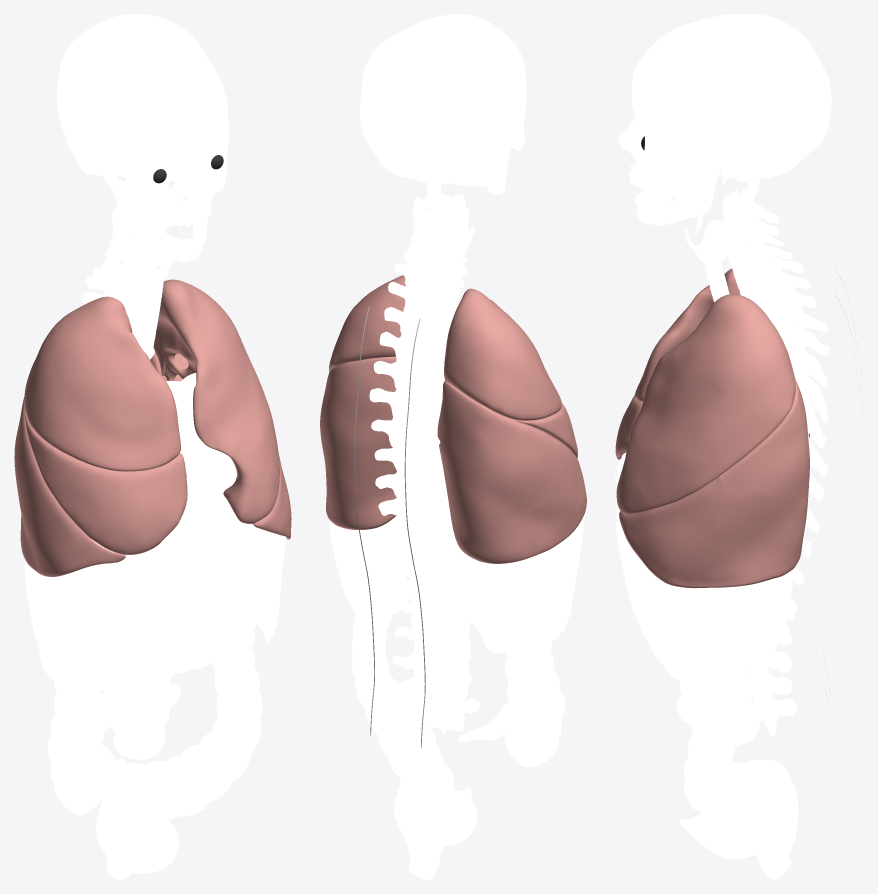
Rendered from organs_v1_backup_20260521.glb.
The picture shows the model from 3 angles, left to right: view 1: azimuth 30°, elevation 25°; view 2: azimuth 150°, elevation 25°; view 3: azimuth 270°, elevation 25°; orthographic projection. The views are drawn at different scales.
Visible parts, largest first — view 1: Superior lobe of right lung, Diaphragm, Superior lobe of left lung, Frontal bone, Middle lobe of right lung, Descending colon, Parietal bone.r, Inferior lobe of right lung, Liver, Ascending colon, Urinary bladder, Transverse colon (+21 smaller); view 2: Inferior lobe of right lung, Diaphragm, Parietal bone.r, Inferior lobe of left lung, Superior lobe of right lung, Descending colon, Ascending colon, Occipital bone, Sigmoid colon, Parietal bone.l, Superior lobe of left lung, Vertebra L5 (+30 smaller); view 3: Superior lobe of left lung, Inferior lobe of left lung, Parietal bone.l, Diaphragm, Descending colon, Frontal bone, Sigmoid colon, Mandible, Temporal bone.l, Urinary bladder, Superior lobe of right lung, Vertebra L5 (+23 smaller).
Part boxes in pixels (x1,y1,x2,y2): Superior lobe of right lung: [24, 296, 180, 471]; Diaphragm: [24, 491, 286, 683]; Superior lobe of left lung: [153, 279, 279, 523]; Frontal bone: [110, 42, 228, 165]; Middle lobe of right lung: [25, 412, 187, 554]; Descending colon: [118, 608, 262, 820]; Parietal bone.r: [56, 15, 158, 142]; Inferior lobe of right lung: [14, 397, 125, 576]; Liver: [129, 488, 244, 640]; Ascending colon: [48, 679, 104, 815]; Urinary bladder: [102, 818, 178, 873]; Transverse colon: [108, 621, 248, 672]; Inferior lobe of right lung: [437, 381, 586, 563]; Diaphragm: [329, 514, 584, 651]; Parietal bone.r: [400, 18, 521, 160]; Inferior lobe of left lung: [320, 356, 396, 529]; Superior lobe of right lung: [444, 288, 561, 420]; Descending colon: [351, 599, 454, 801]; Ascending colon: [504, 642, 565, 767]; Occipital bone: [361, 104, 475, 184]; Sigmoid colon: [394, 756, 454, 879]; Parietal bone.l: [359, 15, 460, 129]; Superior lobe of left lung: [329, 275, 406, 372]; Vertebra L5: [384, 678, 479, 733]; Superior lobe of left lung: [616, 294, 795, 513]; Inferior lobe of left lung: [619, 378, 809, 588]; Parietal bone.l: [679, 20, 828, 157]; Diaphragm: [617, 453, 793, 679]; Descending colon: [685, 674, 764, 821]; Frontal bone: [631, 20, 702, 137]; Sigmoid colon: [755, 759, 798, 879]; Mandible: [635, 153, 720, 225]; Temporal bone.l: [676, 130, 777, 186]; Urinary bladder: [679, 814, 765, 859]; Superior lobe of right lung: [634, 268, 740, 401]; Vertebra L5: [736, 692, 796, 735].
Size of the model in its own units: 0.261 by 0.9017 by 0.2373.
